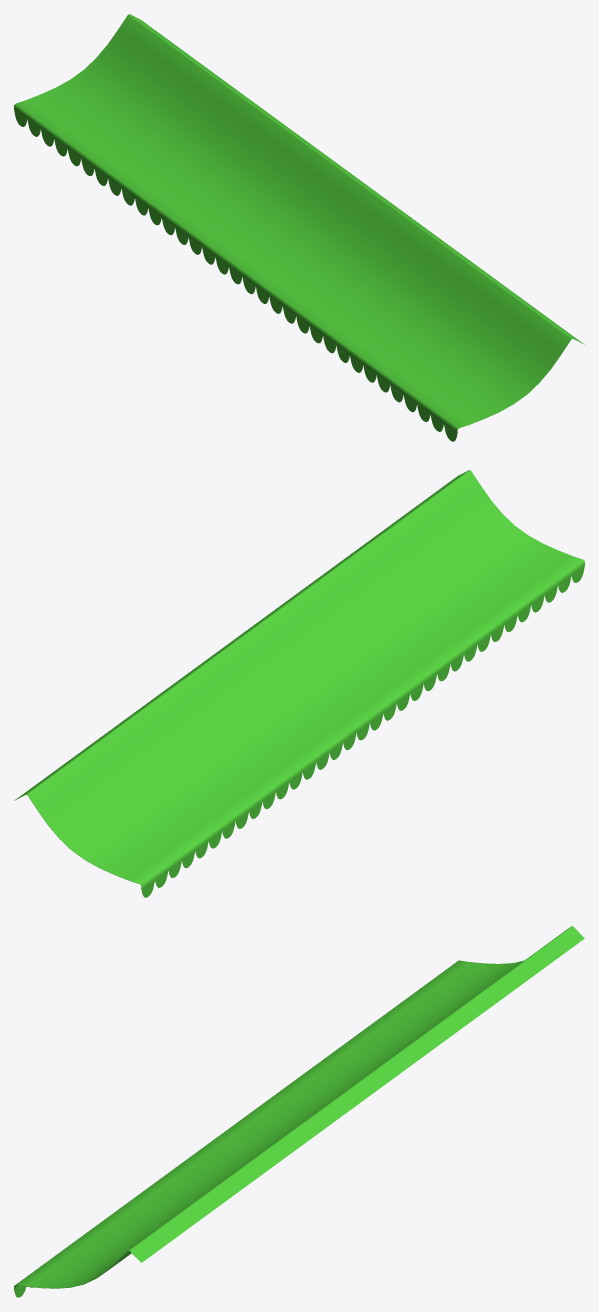
Rendered from Canopy.fbx.
The picture shows the model from 3 angles, top to bottom: view 1: azimuth 30°, elevation 25°; view 2: azimuth 150°, elevation 25°; view 3: azimuth 330°, elevation 25°; orthographic projection.
Visible parts, largest first — view 1: tent; view 2: tent; view 3: tent.
Boxes of the visible parts, box(x1,y1,x2,y2) form: tent: box(14, 14, 584, 441); tent: box(14, 470, 584, 897); tent: box(14, 926, 584, 1297).
Bounding box in the file's own units: 331 × 195 × 1990.
